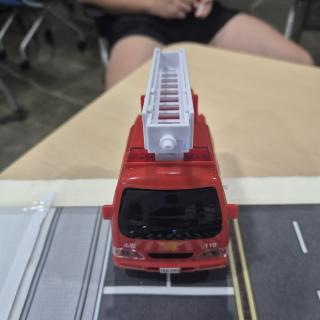Fire_truck: (102, 49, 238, 273)
